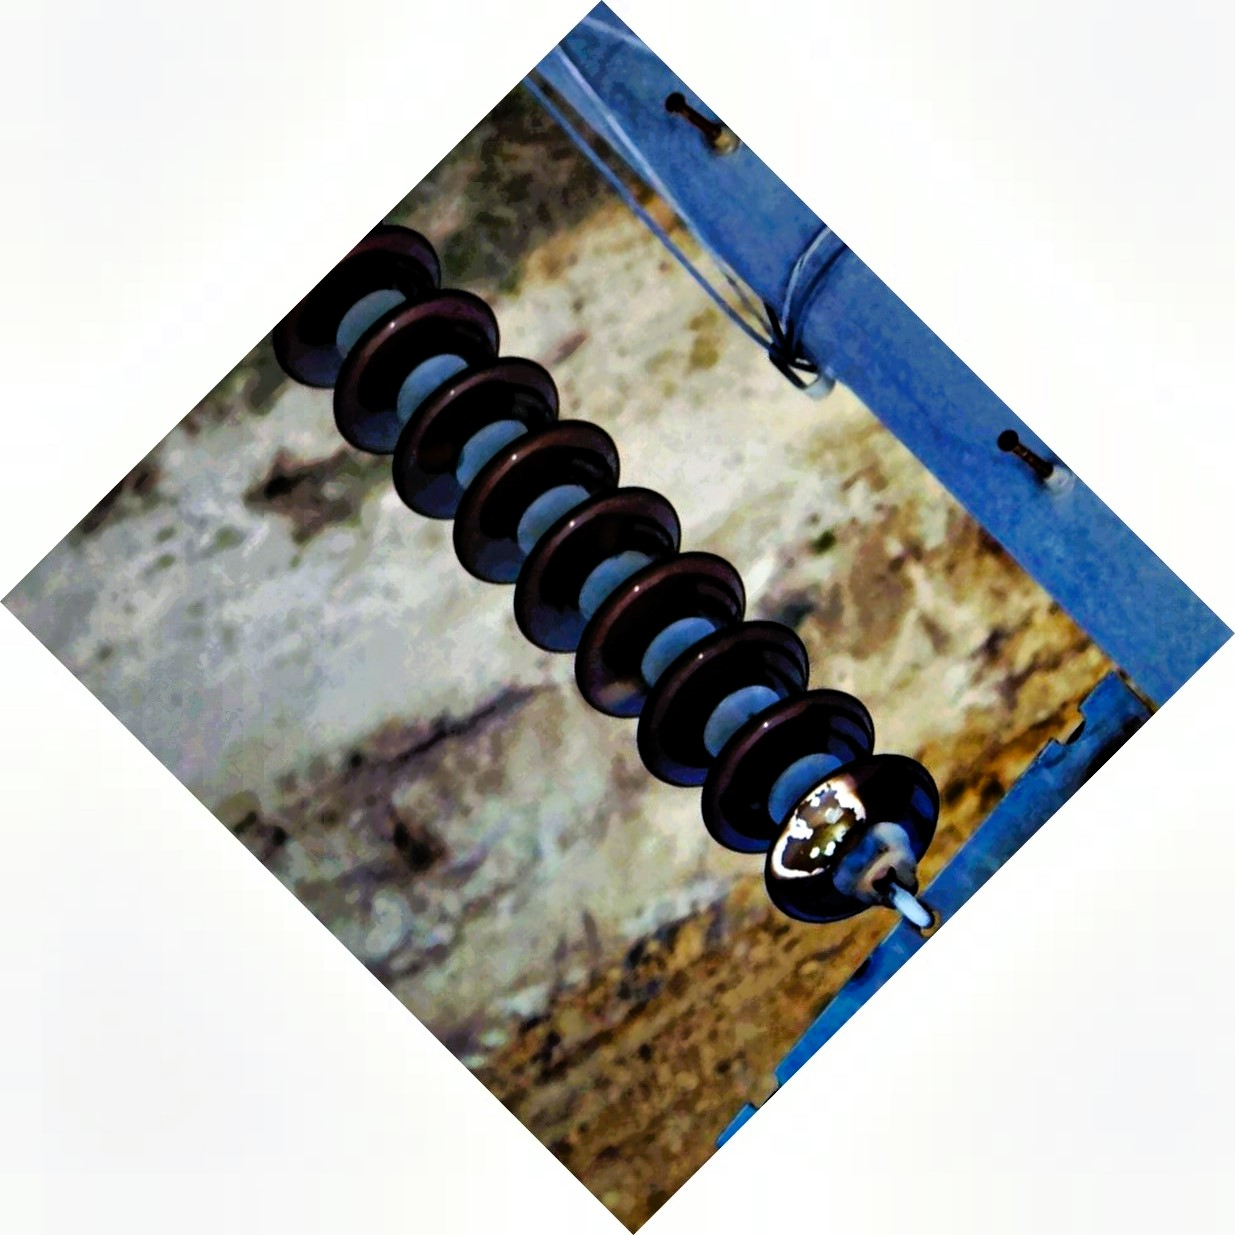Insulator flashover: (759, 742, 955, 955)
